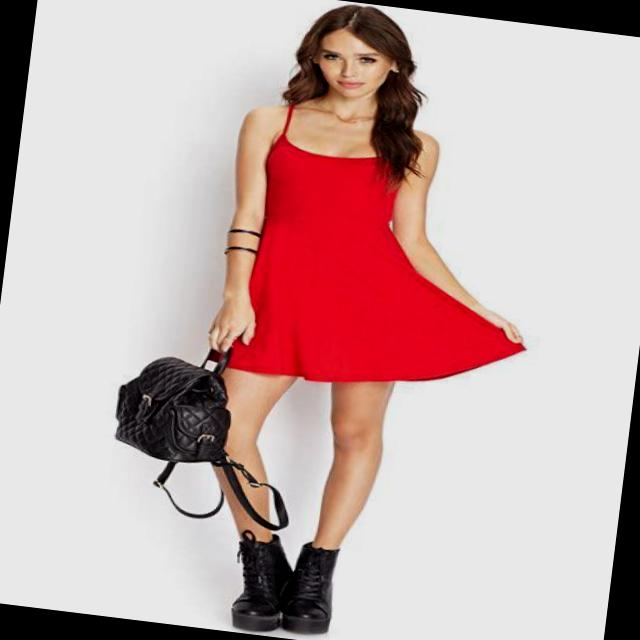dress: (205, 98, 553, 408)
